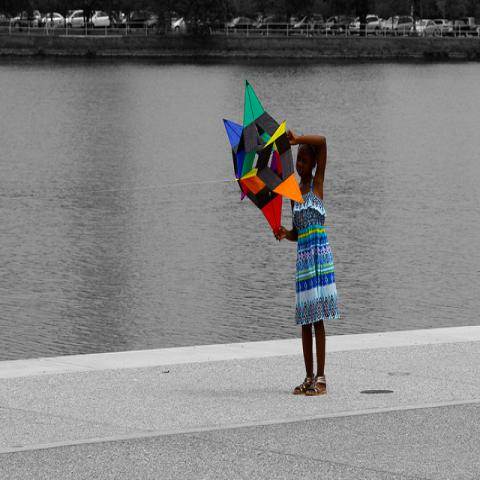car: (18, 3, 342, 30), (348, 14, 382, 36), (293, 14, 323, 34), (64, 10, 92, 30), (407, 20, 441, 36), (382, 14, 414, 30), (448, 20, 478, 37), (253, 15, 276, 30), (227, 17, 253, 29), (40, 13, 63, 26), (92, 11, 110, 27), (434, 19, 449, 37), (146, 15, 160, 34), (171, 18, 187, 31)
